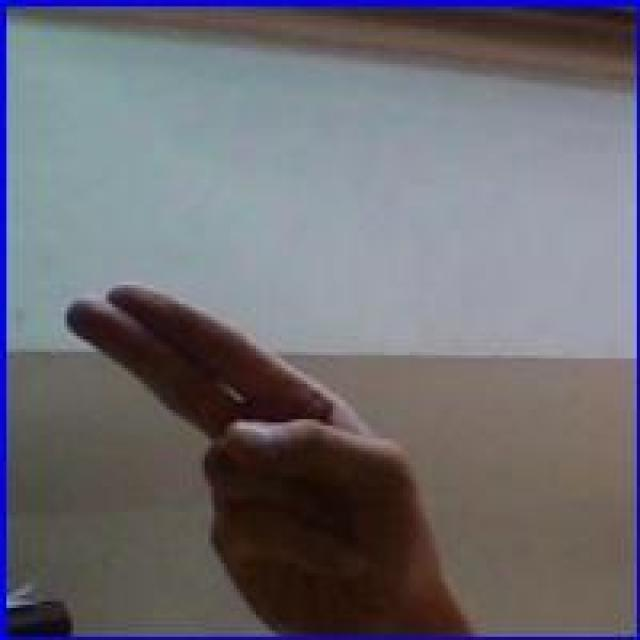H: (64, 280, 429, 626)
